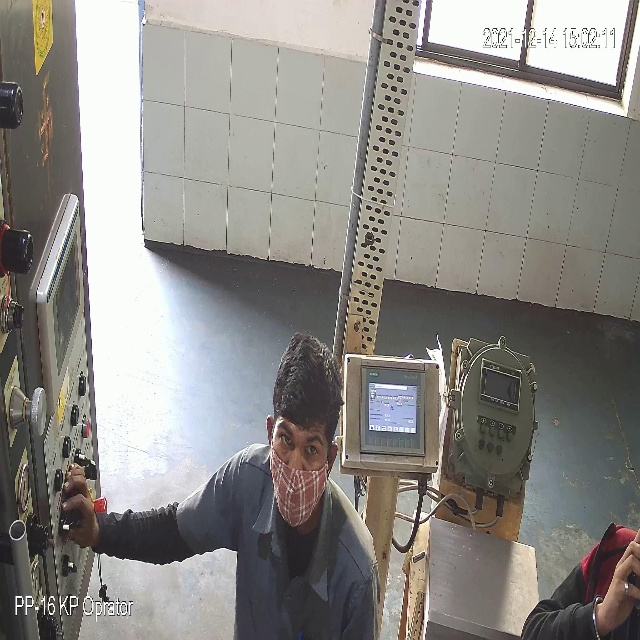Sin_gafas: (274, 423, 322, 470)
